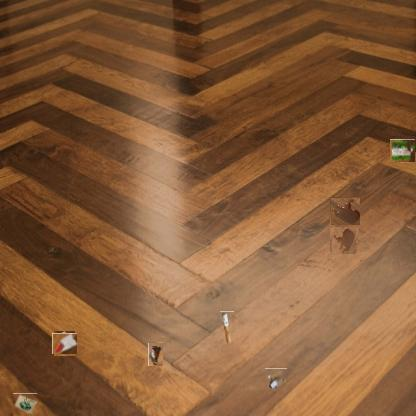dirty: (390, 137, 416, 163), (53, 332, 76, 355), (265, 368, 287, 391), (13, 393, 37, 414), (220, 311, 234, 344), (148, 342, 163, 366)
liquid: (330, 197, 360, 225), (331, 227, 357, 253)
